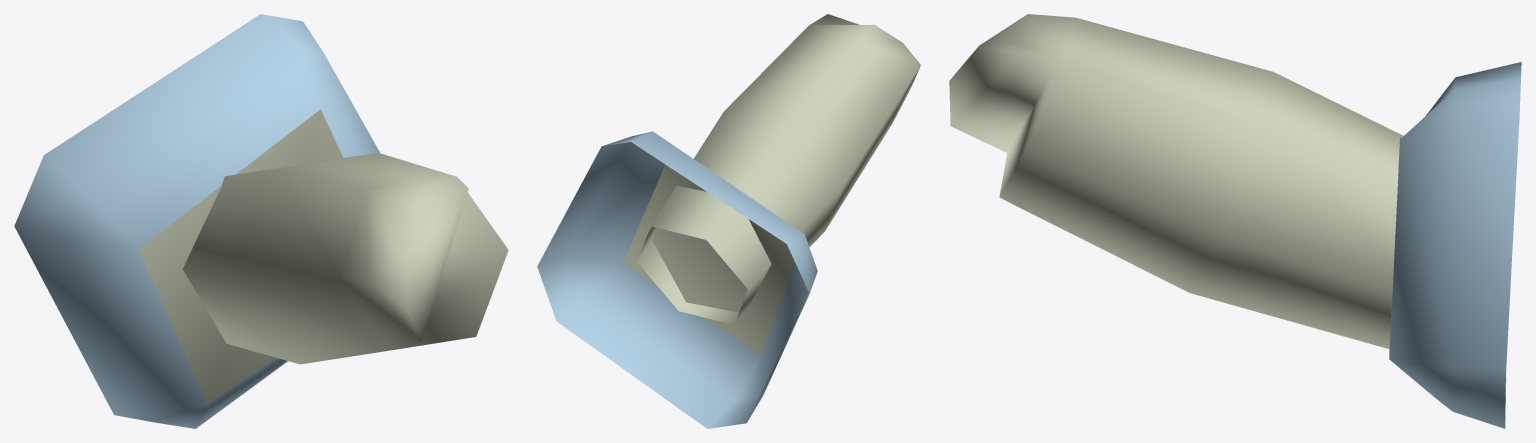
The picture shows the model from 3 angles, left to right: view 1: azimuth 30°, elevation 25°; view 2: azimuth 150°, elevation 25°; view 3: azimuth 270°, elevation 25°; orthographic projection. The views are drawn at different scales.
Parts seen in each view (by area): view 1: Object40; view 2: Object40; view 3: Object40.
Boxes of the visible parts, x1,y1,x2,y2 form: Object40: (14, 14, 508, 428); Object40: (537, 14, 920, 428); Object40: (949, 14, 1521, 428).
Bounding box in the file's own units: 861 × 841 × 1066.
